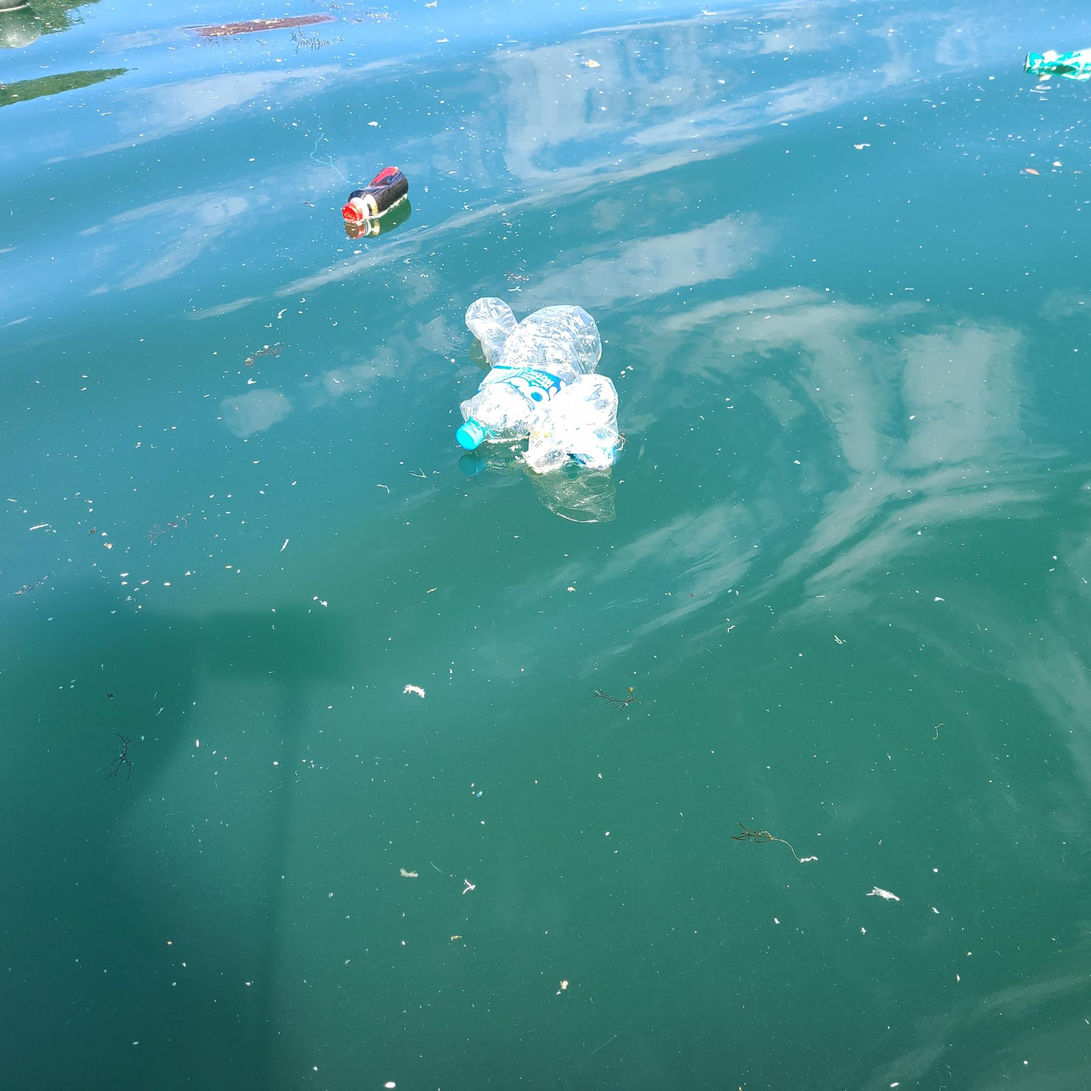sampah_terapung: (456, 305, 603, 451), (522, 375, 619, 470), (464, 298, 519, 371), (343, 167, 409, 223), (1025, 49, 1091, 81)
